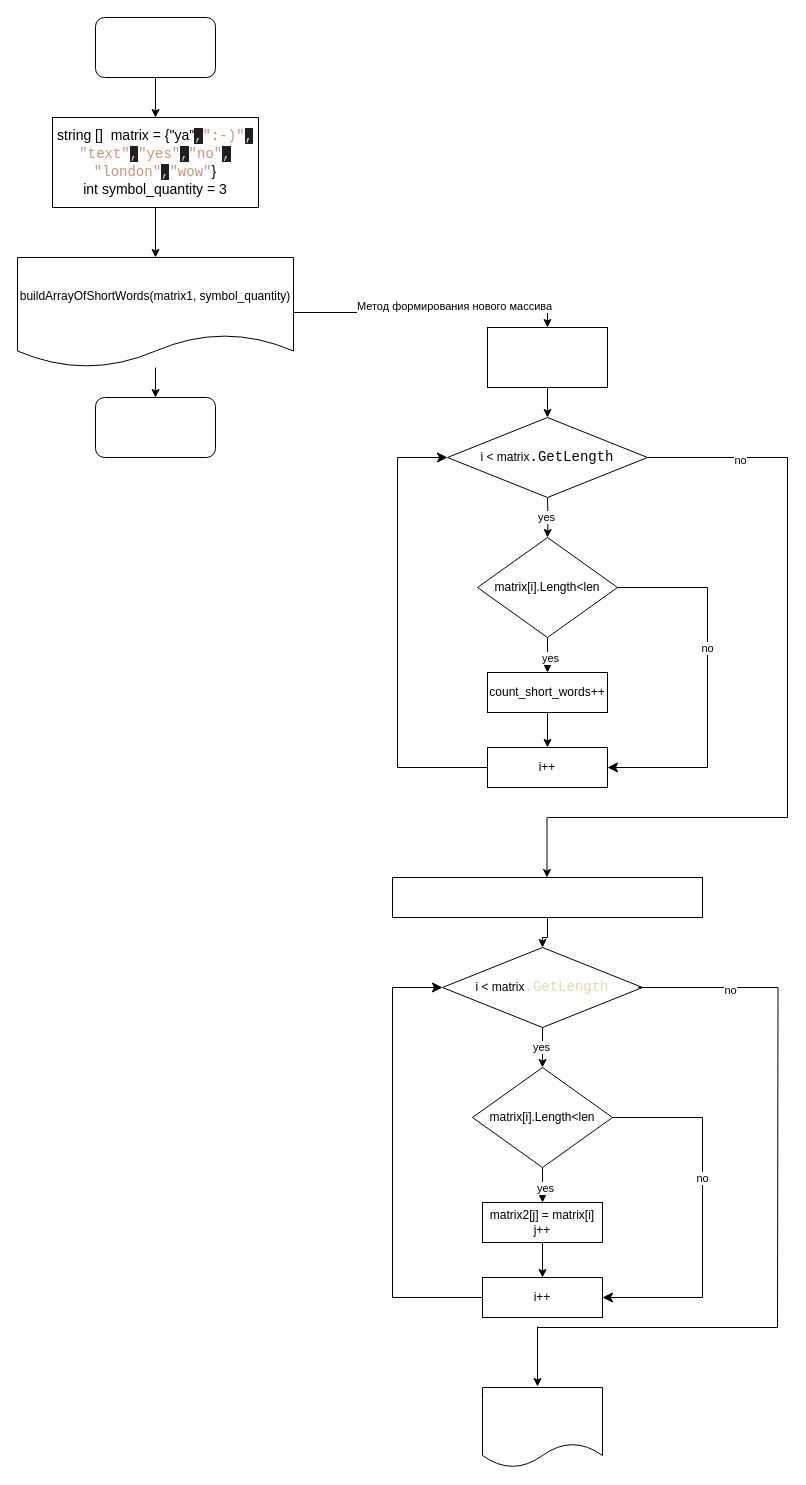
Image size: 806x1485. Some labels were removed from this diagram. Here are the shapes that lost their labels. From the top down, the centre of each, then its label:
the point at 155,47: Начало
the point at 547,357: matrix = matrix1 len = symbol_quantity
the point at 155,427: Конец
the point at 547,897: string [] matrix2 = new string [count_short_words] int j = 0
the point at 542,1427: matrix2
